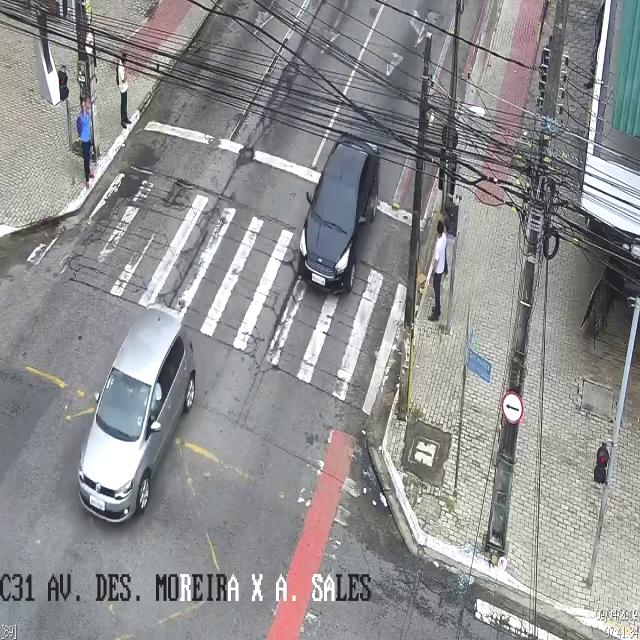Car: (78, 309, 195, 523), (298, 132, 378, 294)
